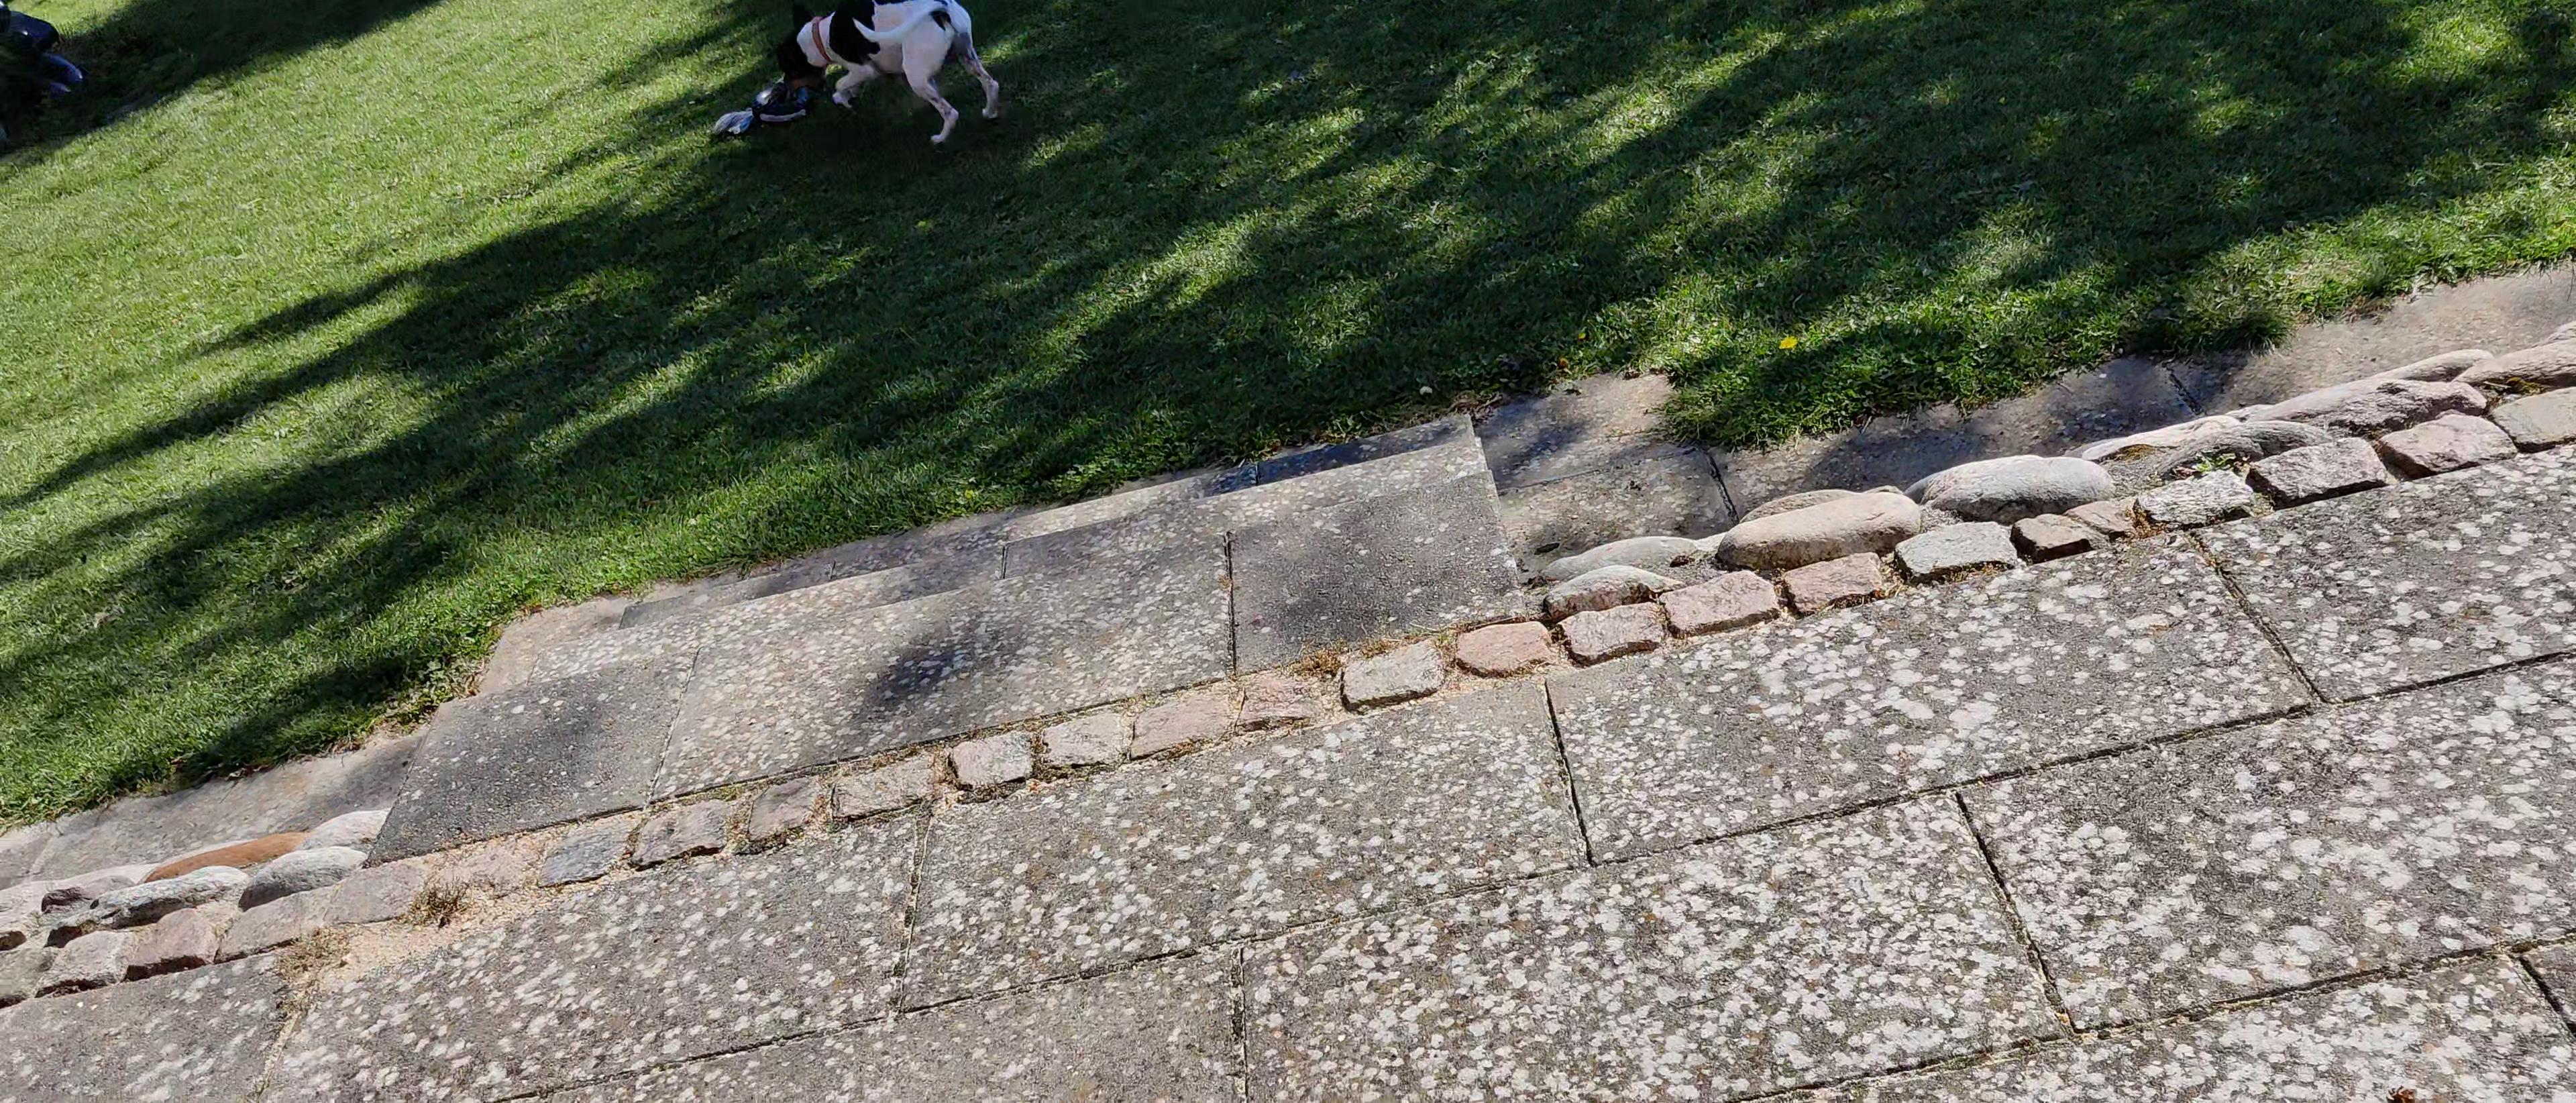Dog: (770, 0, 1025, 150)
